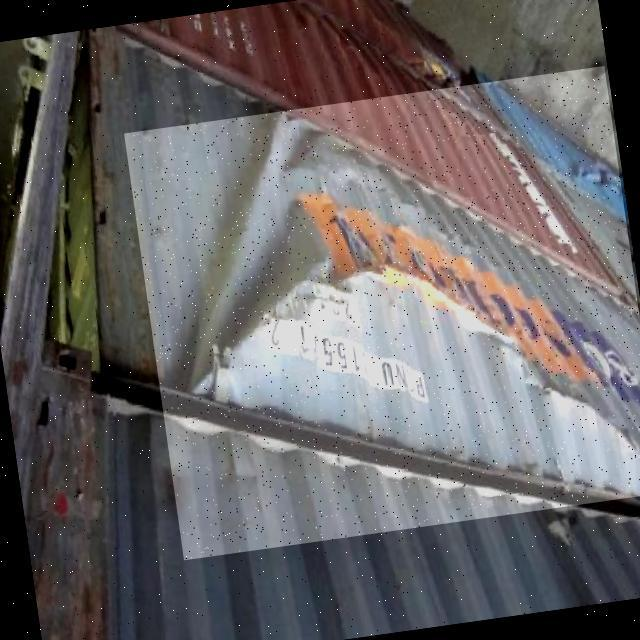dent: (157, 117, 640, 476)
